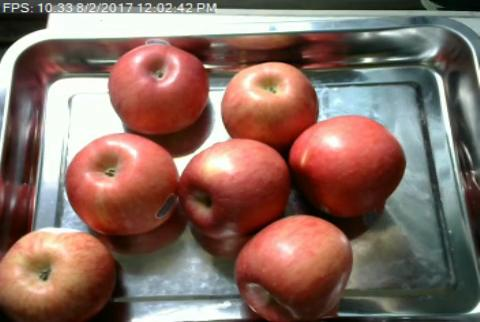apple: (237, 217, 353, 321), (291, 114, 407, 217), (66, 132, 179, 237), (0, 228, 117, 322), (181, 140, 290, 238), (109, 44, 208, 133), (221, 63, 318, 140)
